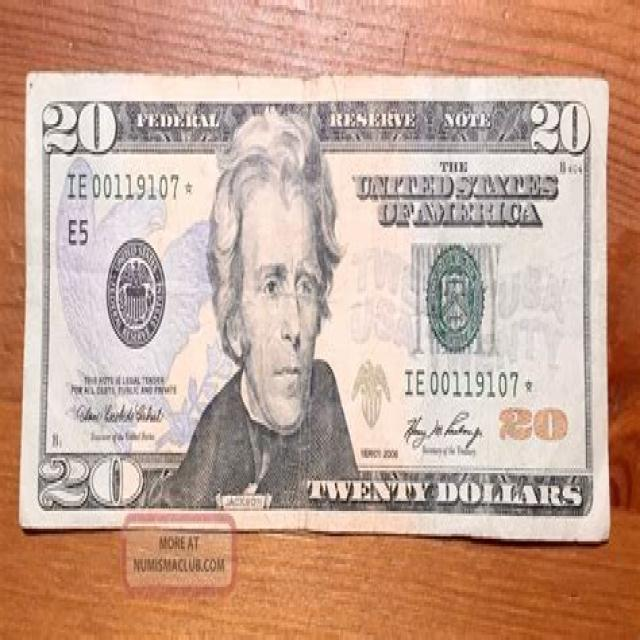Twenty: (23, 71, 611, 544)
